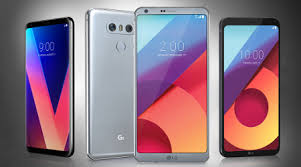lg: (132, 6, 211, 164), (22, 15, 79, 162)
